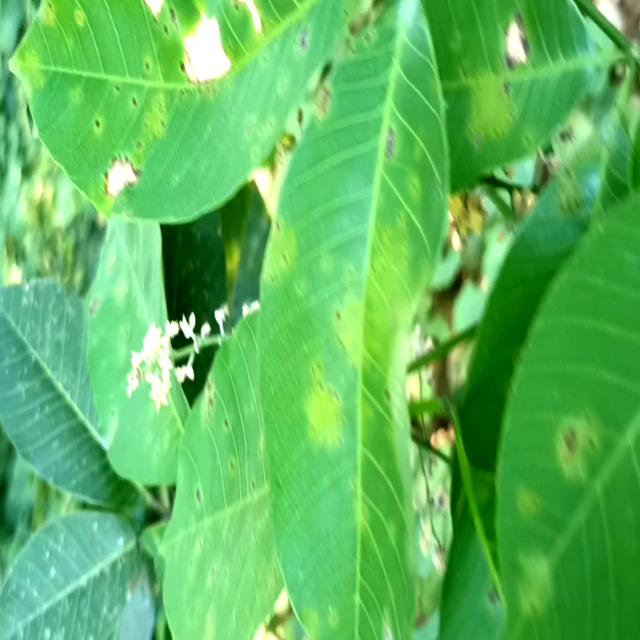Leaf-Blight: (182, 14, 230, 84), (105, 158, 138, 200), (243, 0, 262, 34), (145, 0, 165, 21)
